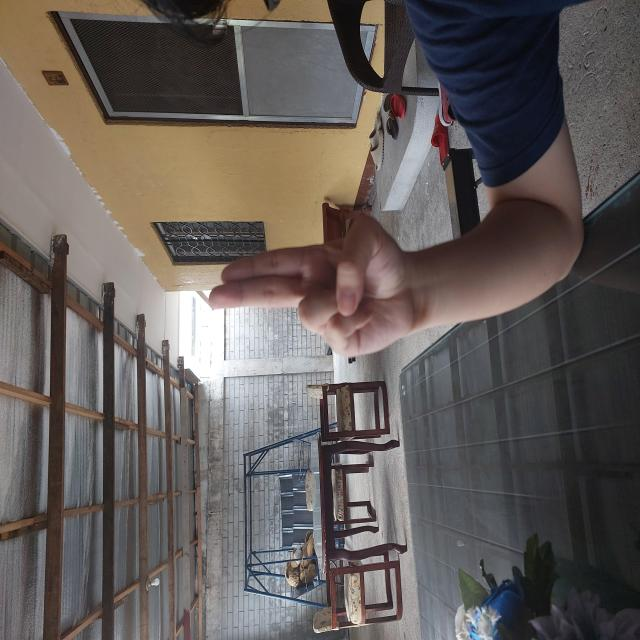U: (281, 206, 430, 420)
